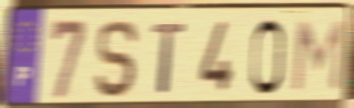0: (249, 16, 287, 98)
4: (197, 18, 235, 97)
7: (49, 17, 88, 103)
M: (289, 17, 347, 94)
S: (93, 17, 141, 100)
T: (151, 21, 188, 96)
